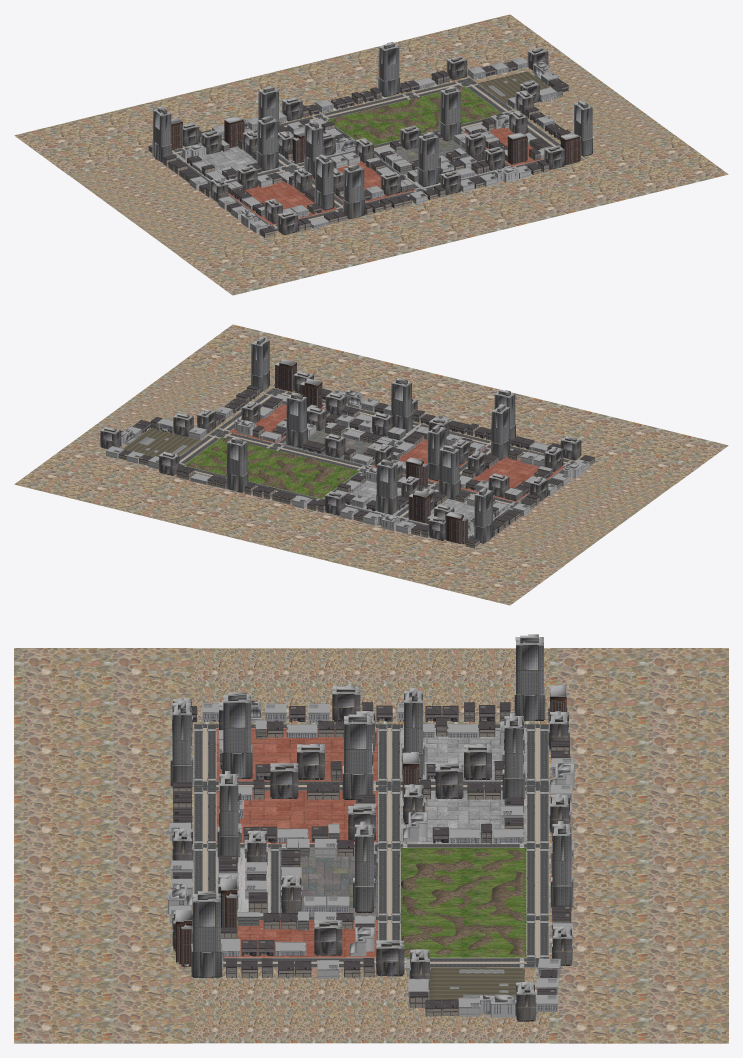
File: ecds.glb
The picture shows the model from 3 angles, top to bottom: view 1: azimuth 30°, elevation 25°; view 2: azimuth 150°, elevation 25°; view 3: azimuth 270°, elevation 25°; orthographic projection. The views are drawn at different scales.
Visible parts, largest first — view 1: Plane.003, Plane.002, Plane.001, Plane, terreno, 160x120.001, building1.004, building1.002, building1, building1.009, building1.001, building1.007 (+11 smaller); view 2: Plane.002, Plane.003, Plane.001, Plane, terreno, Test_track, 160x120.001, building1.003, building1, building1.001, building1.009, building1.002 (+15 smaller); view 3: Plane.003, Plane.002, Plane, Plane.001, terreno, 160x120, 120x120, 160x120.001, 160x90, Test_track, building1.005, building1.006 (+39 smaller).
Boxes of the visible parts, <box> form: Plane.003: <box>178,134,728,295</box>; Plane.002: <box>14,14,564,175</box>; Plane.001: <box>70,155,261,255</box>; Plane: <box>470,54,673,156</box>; terreno: <box>327,86,501,145</box>; 160x120.001: <box>228,180,337,225</box>; building1.004: <box>343,164,364,219</box>; building1.002: <box>417,131,439,187</box>; building1: <box>378,42,399,97</box>; building1.009: <box>256,116,278,171</box>; building1.001: <box>439,86,461,141</box>; building1.007: <box>314,154,334,210</box>; Plane.002: <box>14,444,564,605</box>; Plane.003: <box>178,324,728,485</box>; Plane.001: <box>472,465,672,565</box>; Plane: <box>69,364,272,463</box>; terreno: <box>184,437,358,498</box>; Test_track: <box>123,428,200,457</box>; 160x120.001: <box>460,454,565,502</box>; building1.003: <box>376,459,397,514</box>; building1: <box>226,437,248,492</box>; building1.001: <box>286,392,307,447</box>; building1.009: <box>438,445,460,500</box>; building1.002: <box>390,378,412,433</box>; Plane.003: <box>14,648,193,1043</box>; Plane.002: <box>549,648,728,1043</box>; Plane: <box>193,967,549,1043</box>; Plane.001: <box>193,648,549,724</box>; terreno: <box>401,848,526,957</box>; 160x120: <box>216,791,377,843</box>; 120x120: <box>401,791,526,843</box>; 160x120.001: <box>216,728,377,781</box>; 160x90: <box>279,848,377,915</box>; Test_track: <box>429,967,524,1007</box>; building1.005: <box>191,891,222,978</box>; building1.006: <box>514,634,545,721</box>.
Bounding box in the file's own units: 10.41 × 1.08 × 7.95.
Materials: 20 (20 with a texture image).
